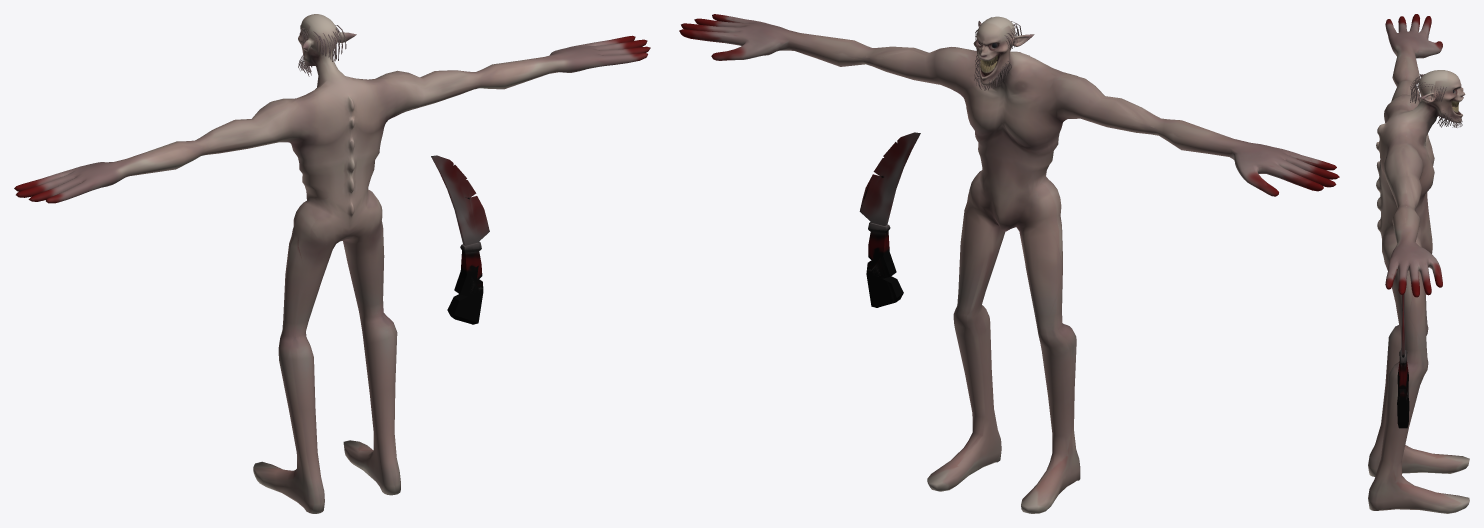
File: SCP4666.fbx
3 views of the same model, side by side, from view 1: azimuth 30°, elevation 25°; view 2: azimuth 150°, elevation 25°; view 3: azimuth 270°, elevation 25° (orthographic). The views are drawn at different scales.
Parts seen in each view (by area): view 1: Body, Knife, Hair; view 2: Body, Knife; view 3: Body, Knife, Hair.
Boxes of the visible parts, box(x1,y1,x2,y2) form: Body: box(14, 14, 650, 513); Knife: box(431, 155, 489, 324); Hair: box(298, 25, 346, 76); Body: box(679, 14, 1339, 513); Knife: box(859, 132, 920, 307); Body: box(1368, 14, 1469, 513); Knife: box(1397, 293, 1409, 428); Hair: box(1410, 74, 1462, 127).
Size of the model in its own units: 1875 by 1302 by 286.
